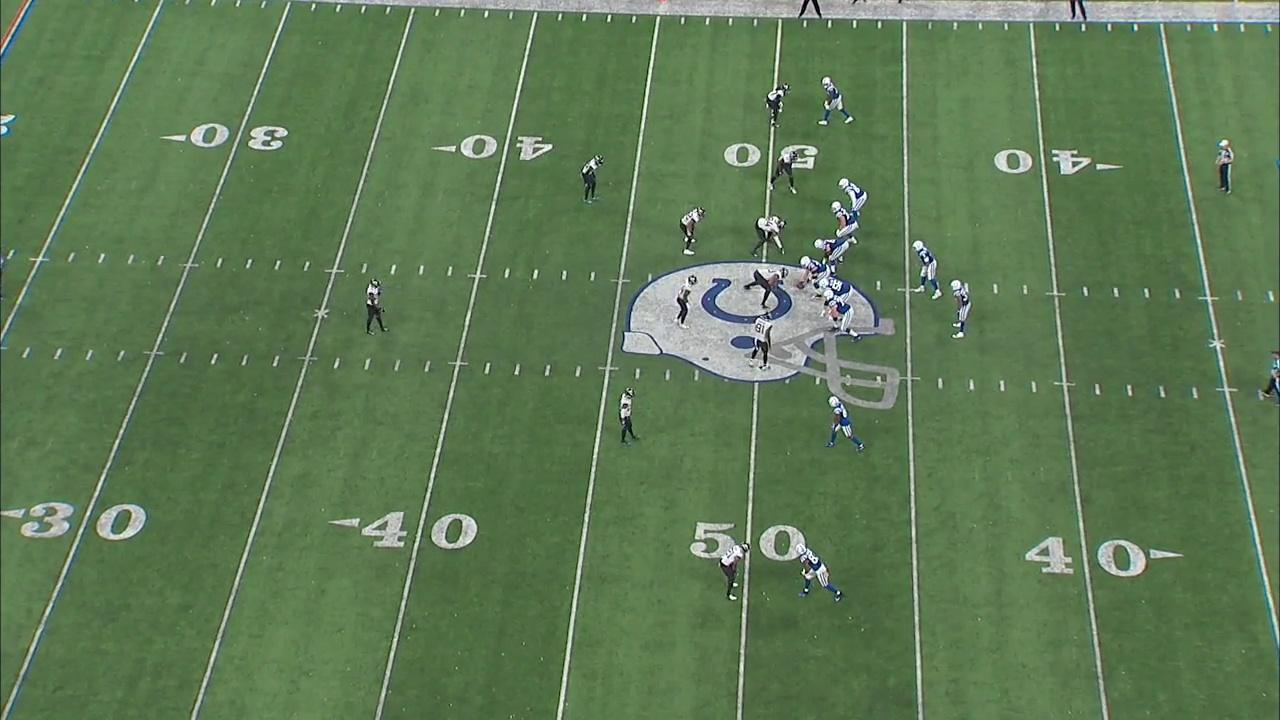defense: (714, 539, 753, 603), (742, 263, 790, 310), (746, 308, 776, 373), (751, 211, 788, 260), (677, 204, 710, 258), (363, 277, 391, 337), (672, 270, 699, 332), (577, 151, 607, 206), (616, 386, 642, 448), (767, 148, 802, 193), (763, 79, 792, 132)
oline: (822, 289, 864, 346), (830, 199, 859, 252), (813, 236, 850, 277), (797, 255, 830, 300), (819, 276, 855, 303)
qb: (911, 239, 943, 304)
ref: (1210, 133, 1238, 198), (1259, 349, 1280, 406)
skill: (791, 542, 846, 605), (824, 394, 865, 454), (816, 73, 855, 130), (944, 277, 972, 342), (837, 176, 869, 221)
